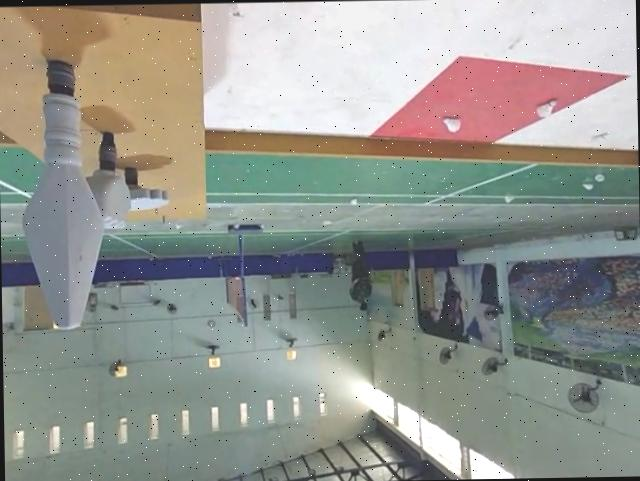Fist: (88, 133, 132, 229)
Hand: (123, 168, 174, 217)
Sph: (16, 51, 109, 335)
